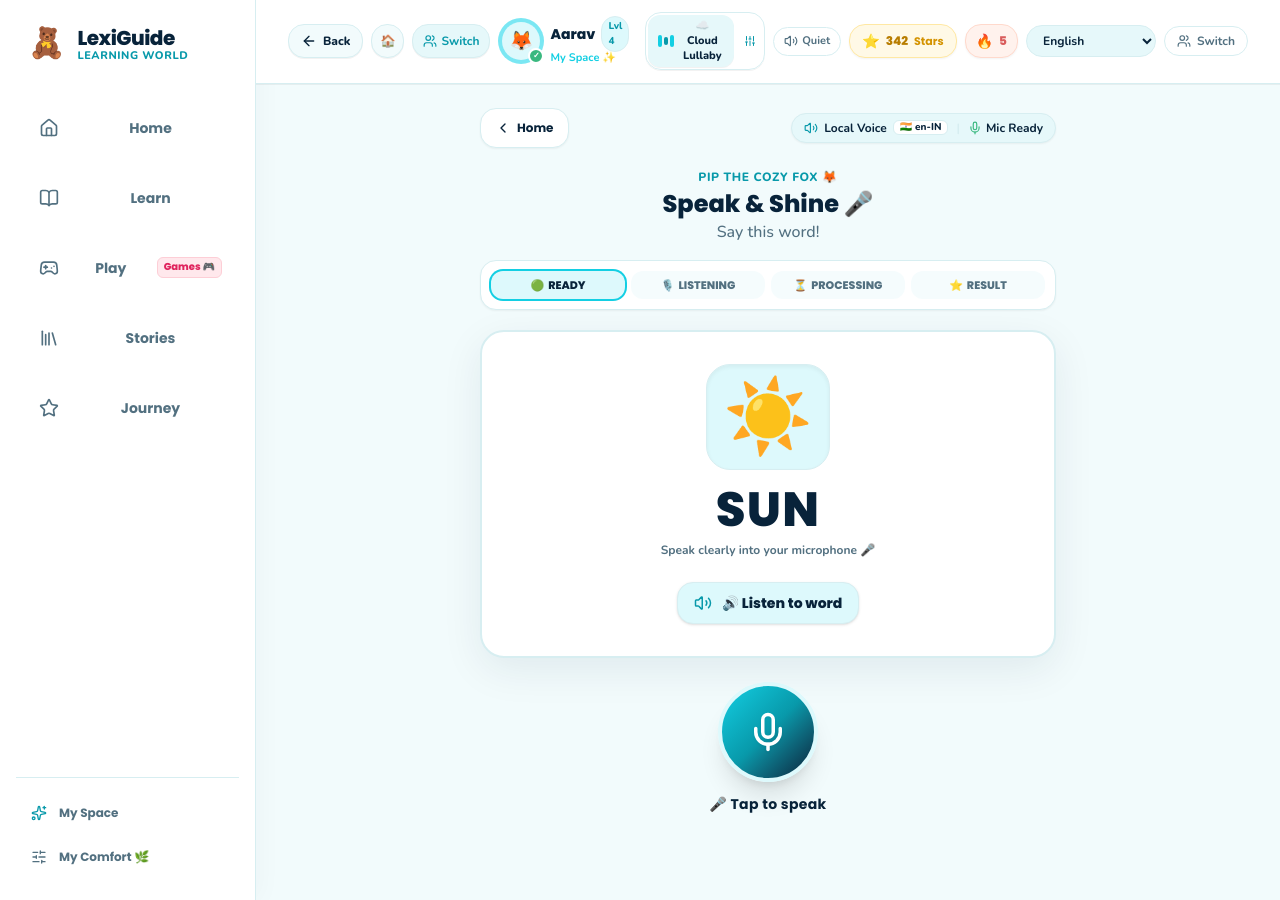
Test: Step 5: Real Browser Microphone + Speech Pipeline Test Suite › 12. Child-friendly transcription feedback is displayed in SpeakPlay in real mode
The width and height of the screenshot is (1280, 900).
Expected: the text "Say this word!" is shown, [717,220,819,242]
Click the button named "start recording" at (768, 732), box [718,682,818,782]
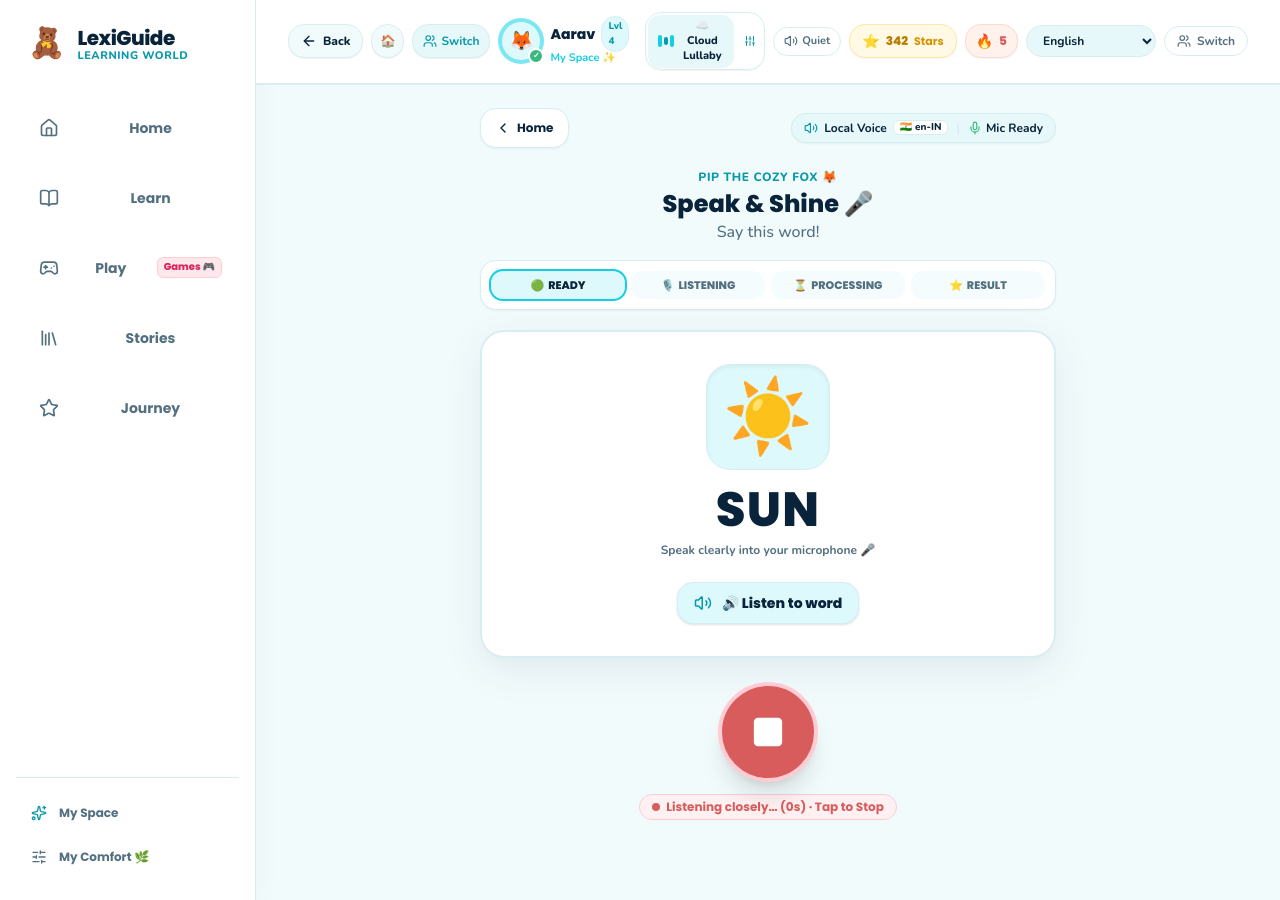
Click the button named "stop recording" at (768, 732), box [718,682,818,782]
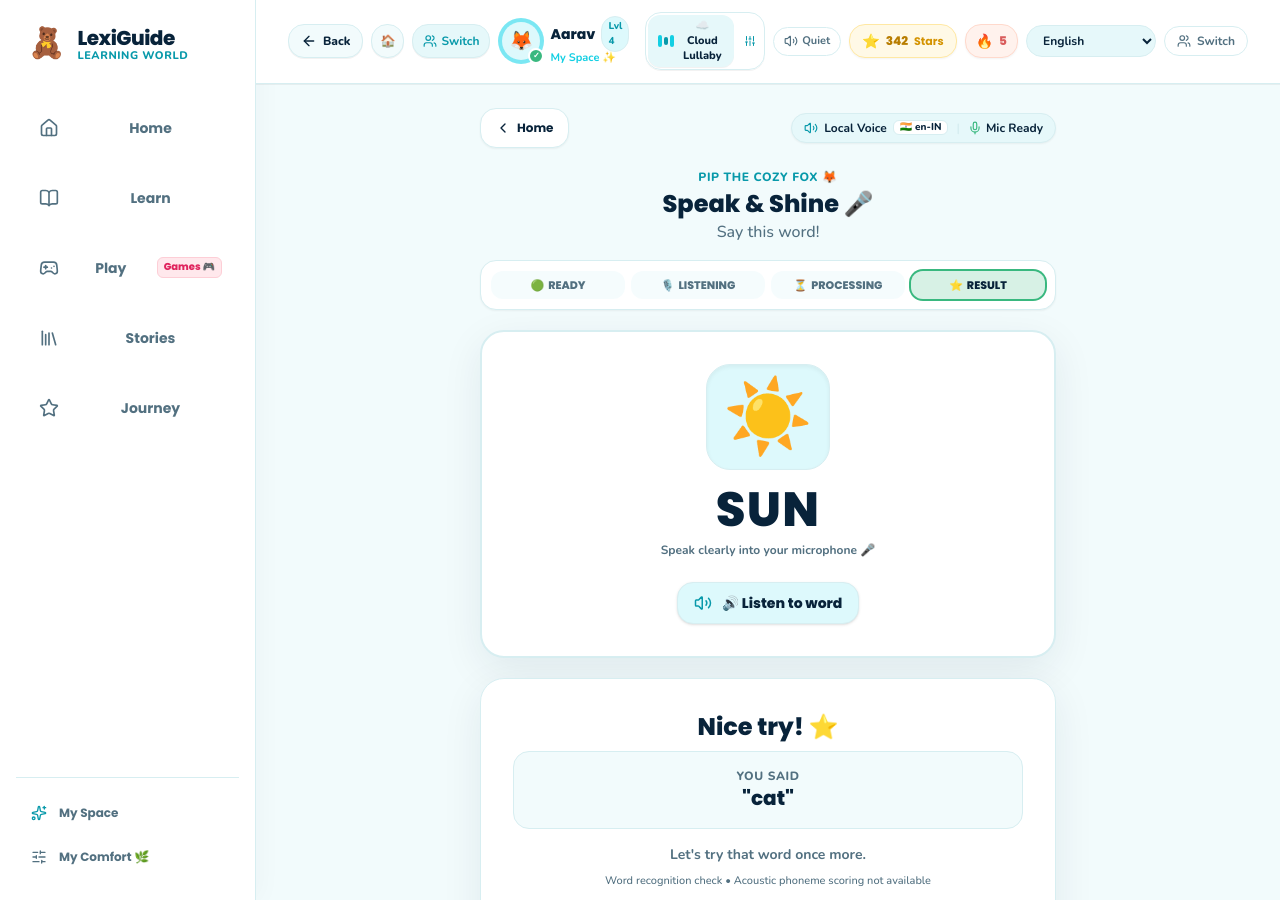
Expected: the text "You said" is shown, [736,768,800,784]
Expected: the text "\"cat\"" is shown, [742,784,794,812]
